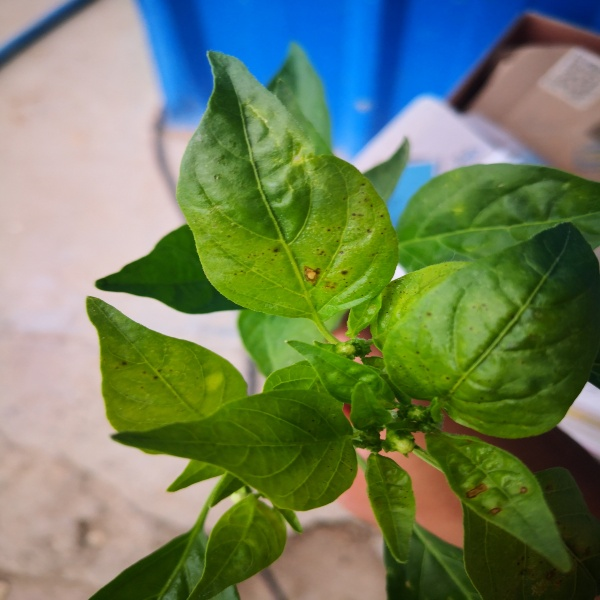Anthrax: (293, 180, 394, 304), (409, 304, 513, 400), (460, 474, 536, 521), (225, 227, 285, 286), (111, 351, 170, 389)
